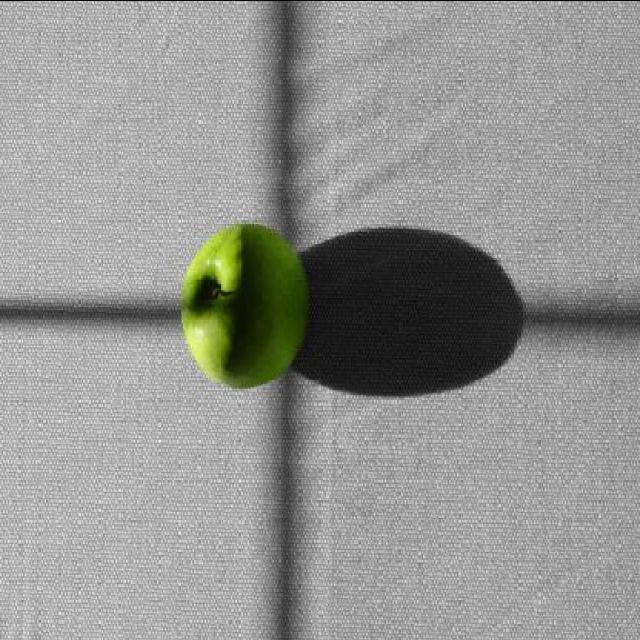Apple pie: (172, 218, 304, 386)
